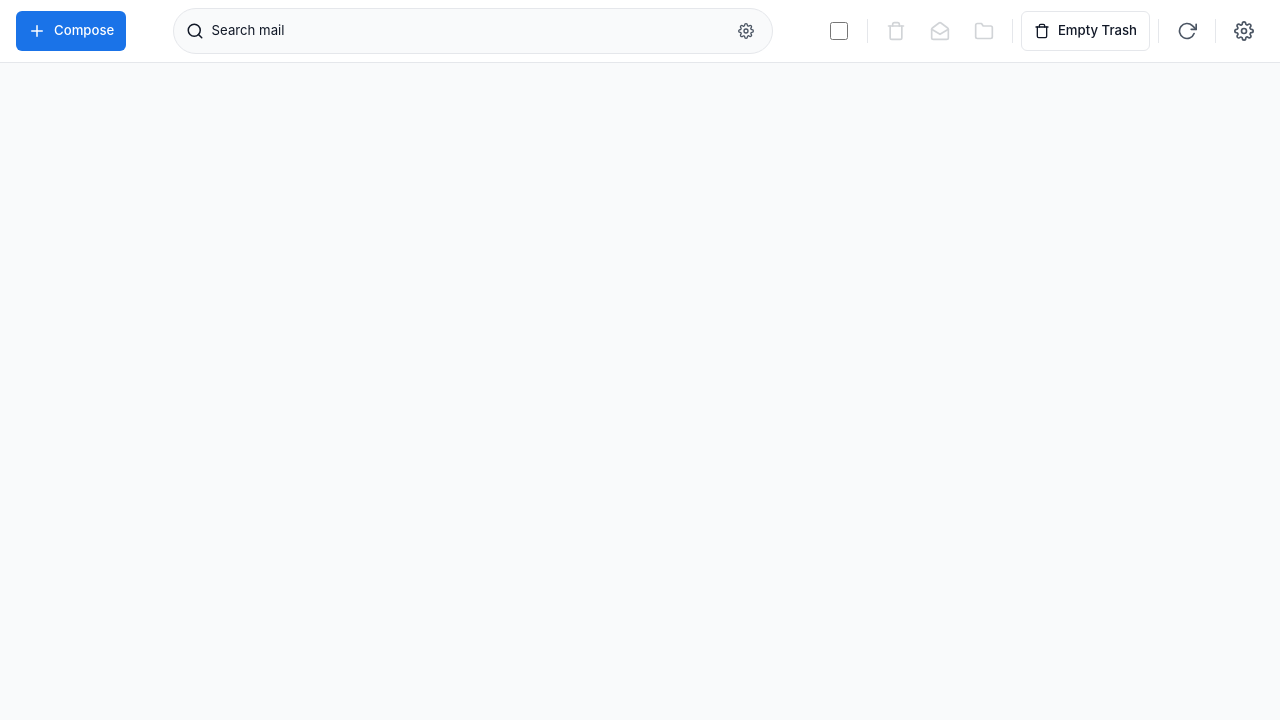
Scenario: Toolbar - Trash folder › opens confirmation dialog when Empty Trash is clicked
The width and height of the screenshot is (1280, 720).
Step 1. Click the button "Empty Trash" → (1085, 31), box 1021,11 -> 1150,51
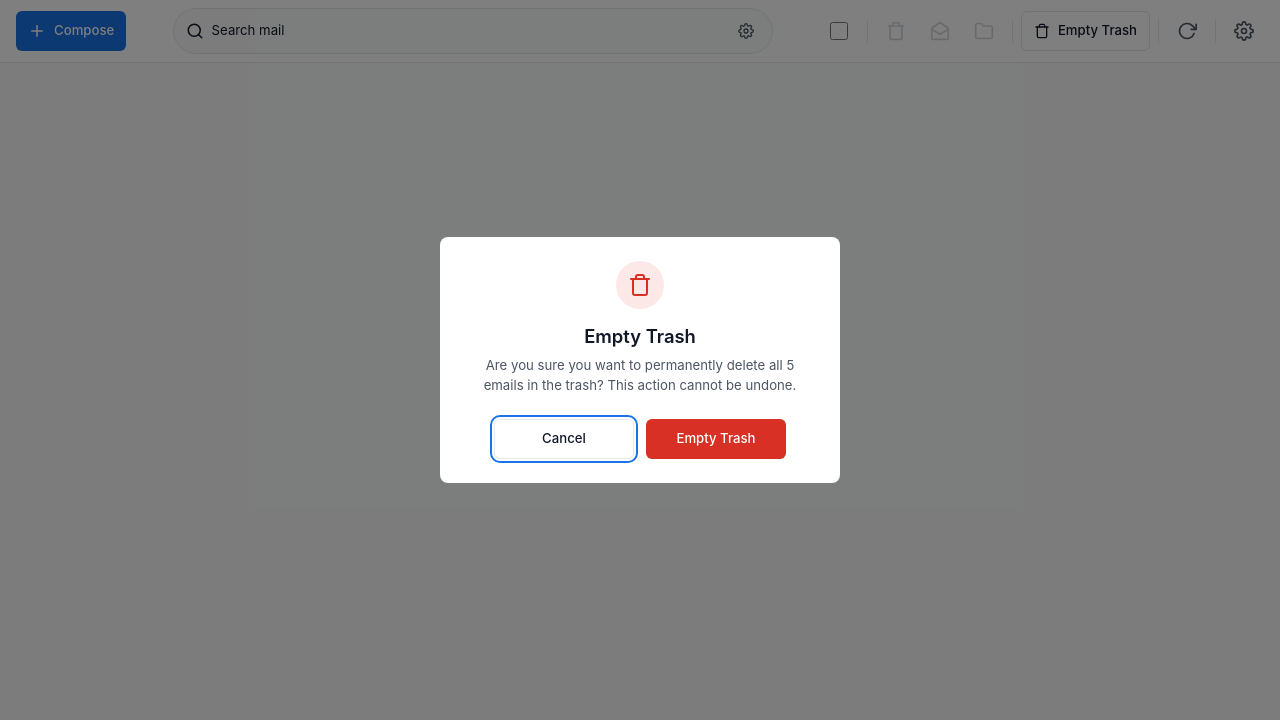
Result: the dialog is shown at 440,237 -> 840,483
